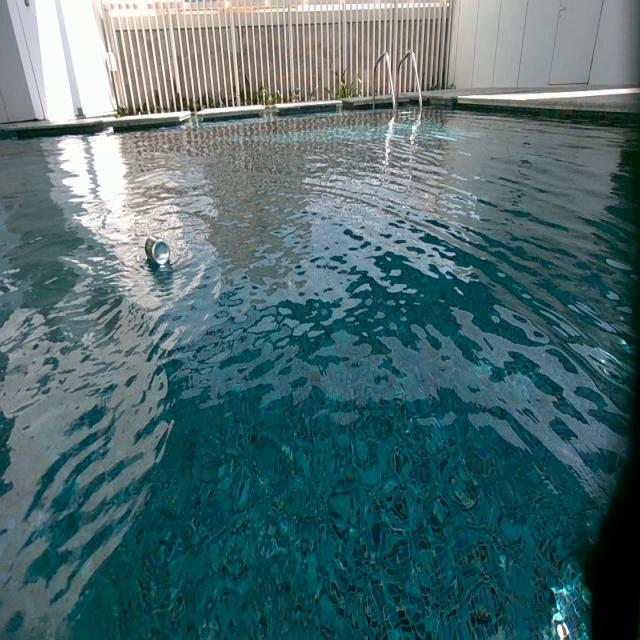Cans: (147, 236, 173, 268)
